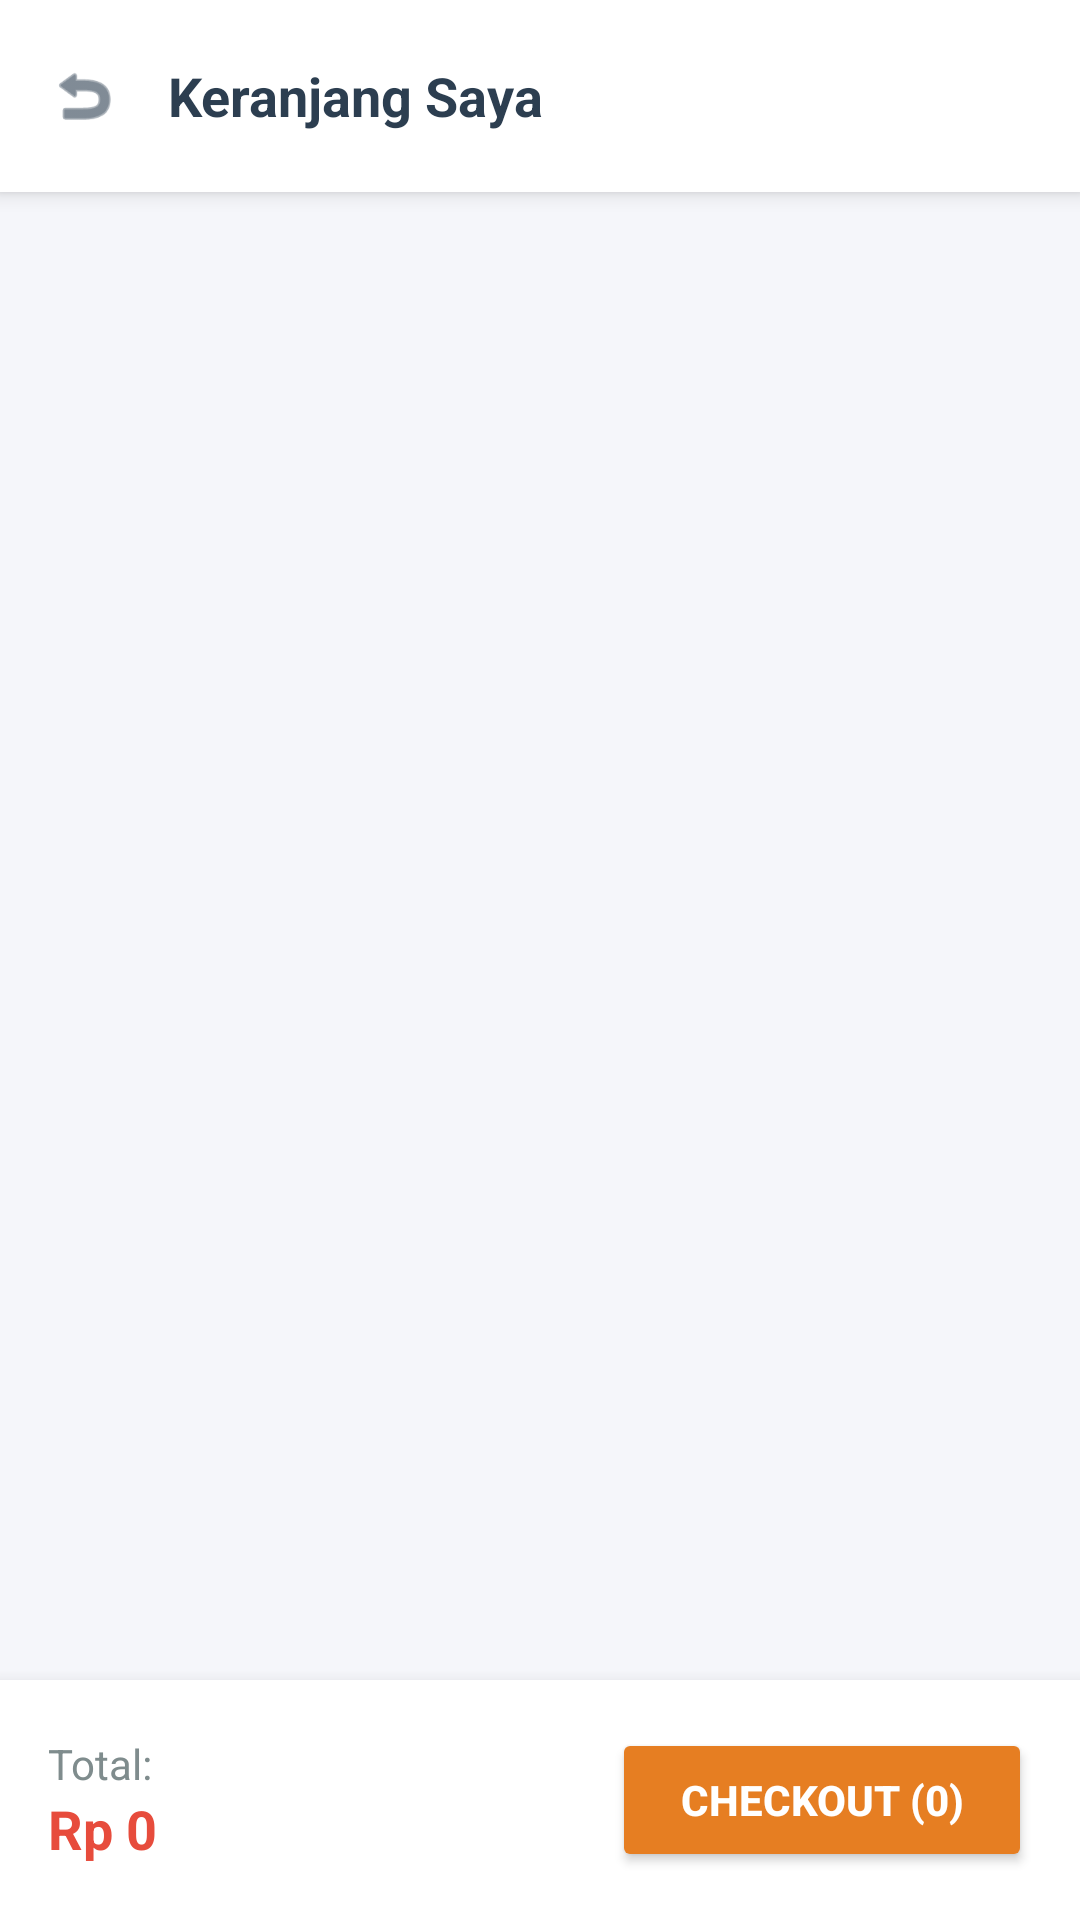

Point at icon controls on the screen. Image size 1080 x 1920, points as point (x, y).
revert: point (85, 96)
